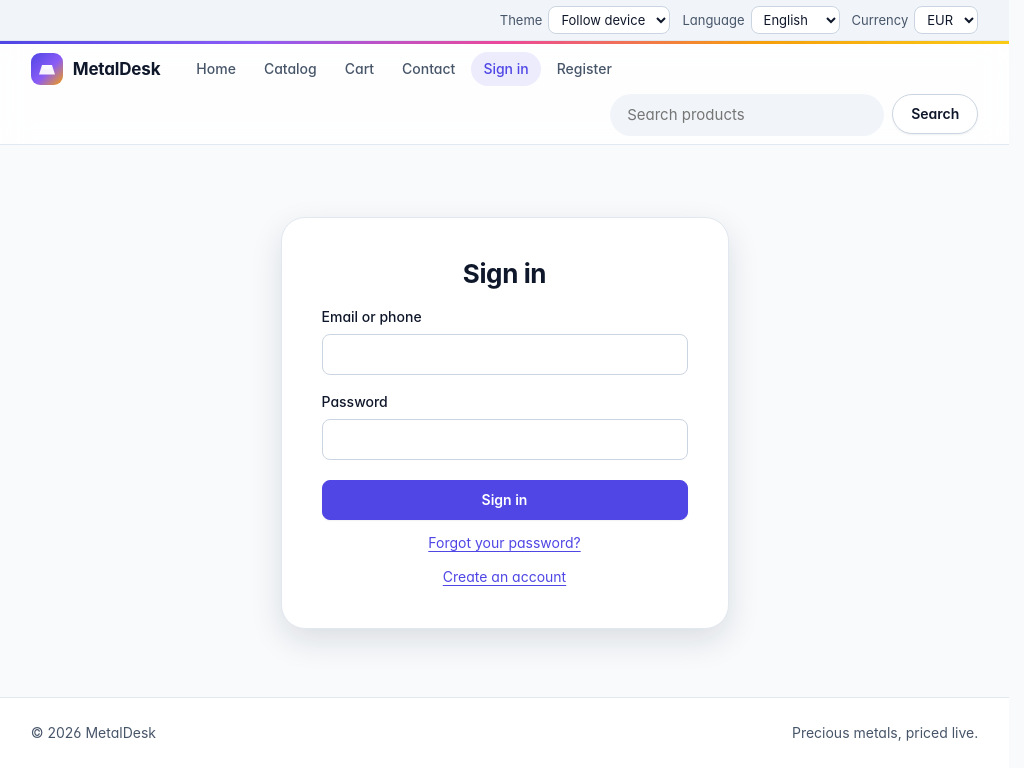
Scenario: sign in › stores the token and returns to the page that asked for the sign-in
In the field labelled "Email or phone": (504, 355) x1=322 y1=334 x2=688 y2=375, type "ada@example.test"
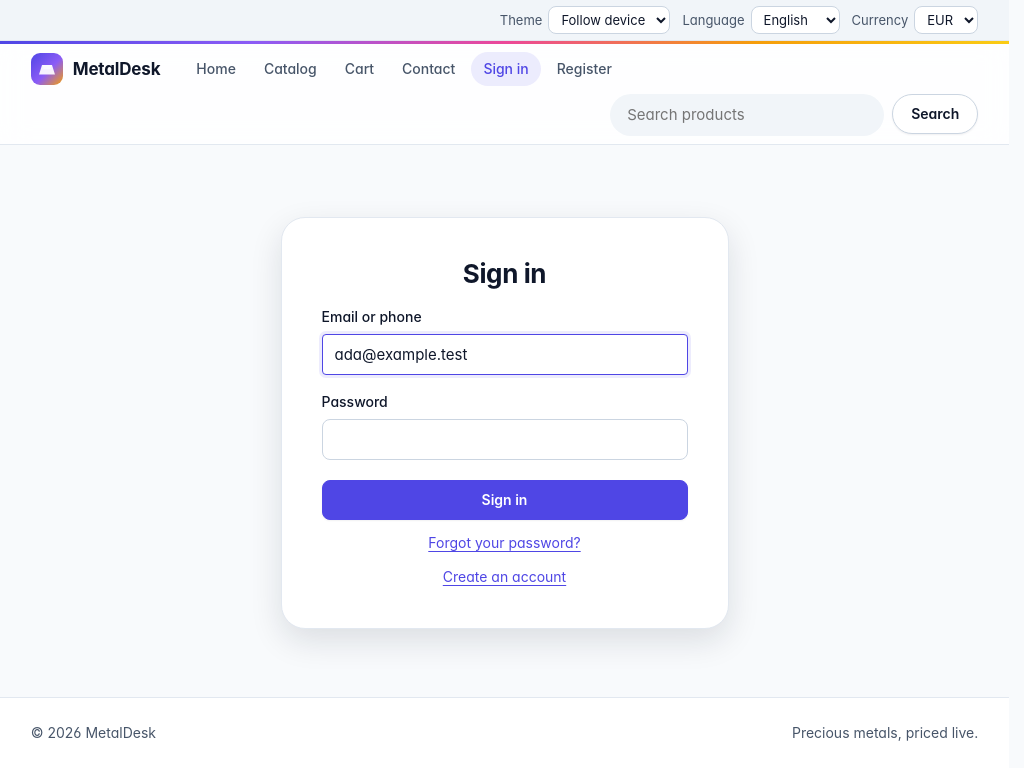
In the password field labelled "Password": (504, 440) x1=322 y1=419 x2=688 y2=460, type "ada-secret-1"
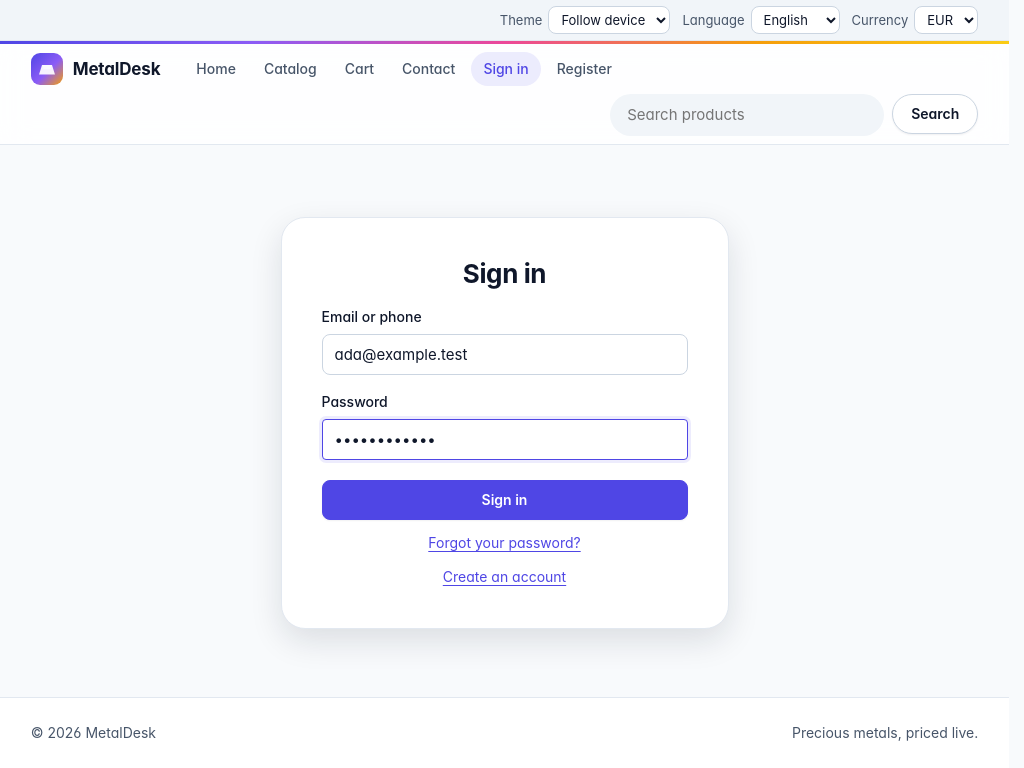
Click the button "Sign in": (504, 500) x1=322 y1=480 x2=688 y2=520
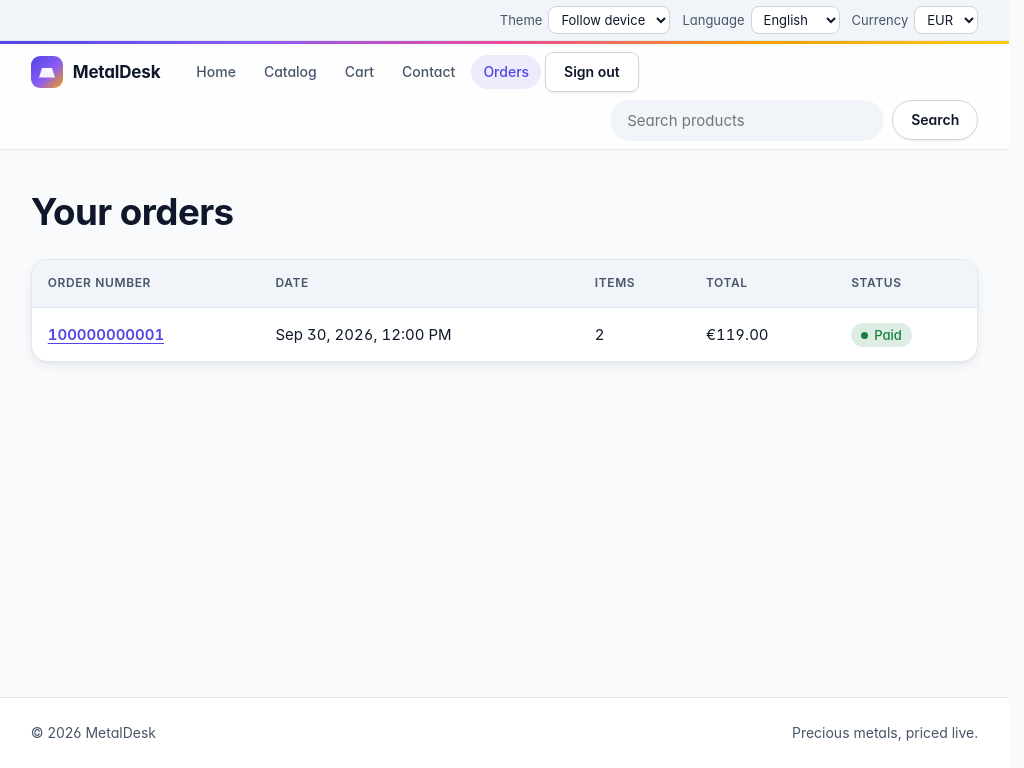
Result: the heading "Your orders" is shown at x1=31 y1=189 x2=234 y2=234
